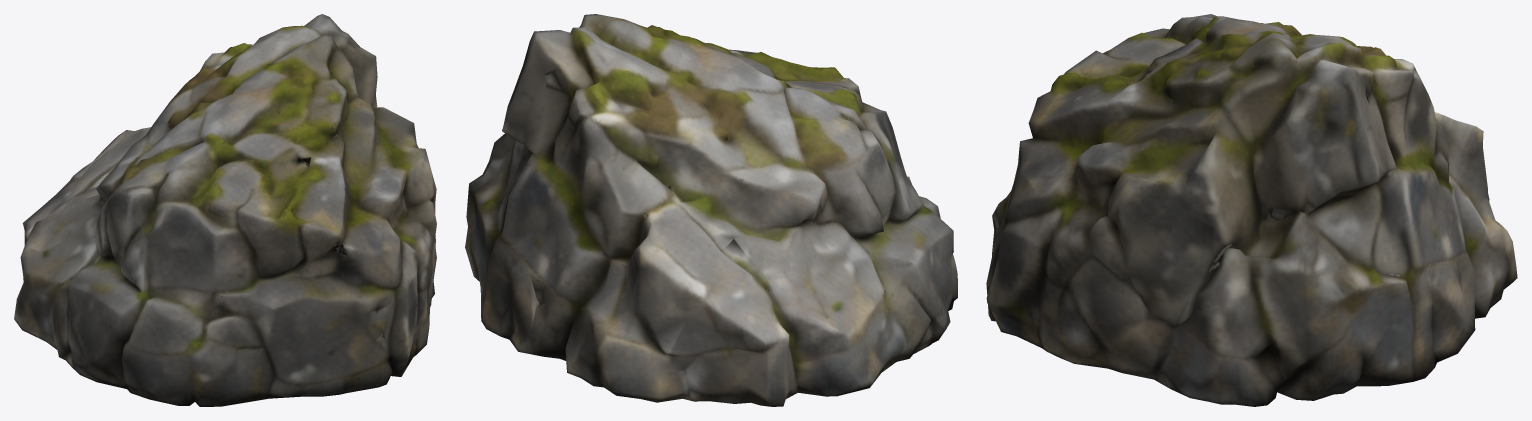
File: rock_1.glb
3 renders of one model, left to right at view 1: azimuth 30°, elevation 25°; view 2: azimuth 150°, elevation 25°; view 3: azimuth 270°, elevation 25°, orthographic. The views are drawn at different scales.
Parts seen in each view (by area): view 1: MV_rock_1; view 2: MV_rock_1; view 3: MV_rock_1.
Boxes of the visible parts, box(x1,y1,x2,y2) form: MV_rock_1: box(14, 14, 436, 406); MV_rock_1: box(465, 14, 957, 406); MV_rock_1: box(986, 14, 1517, 406).
Bounding box in the file's own units: 1.92 × 1.2 × 1.88.
1 material, 1 textured.
